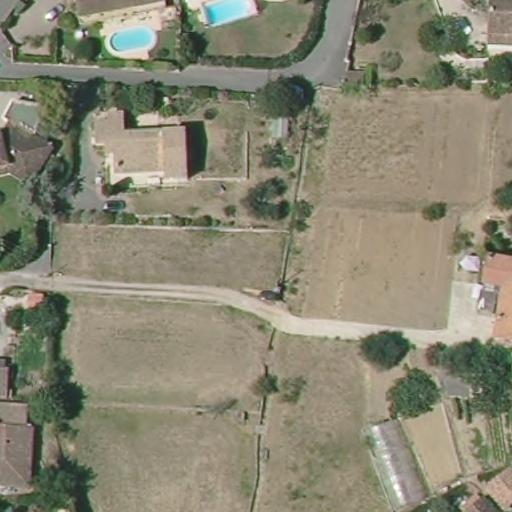pool: (100, 25, 161, 57), (200, 0, 259, 25)
